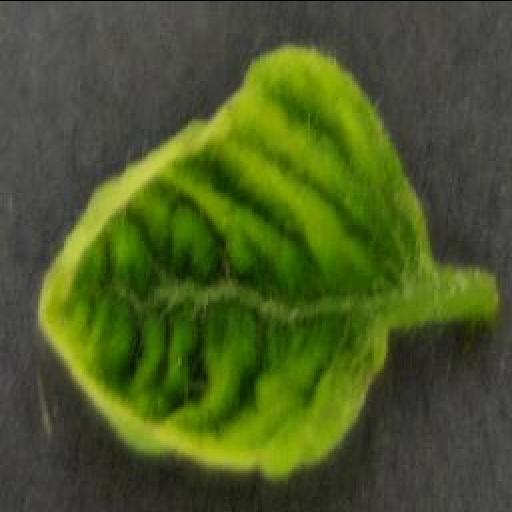disease_tomato: (37, 38, 435, 480)
